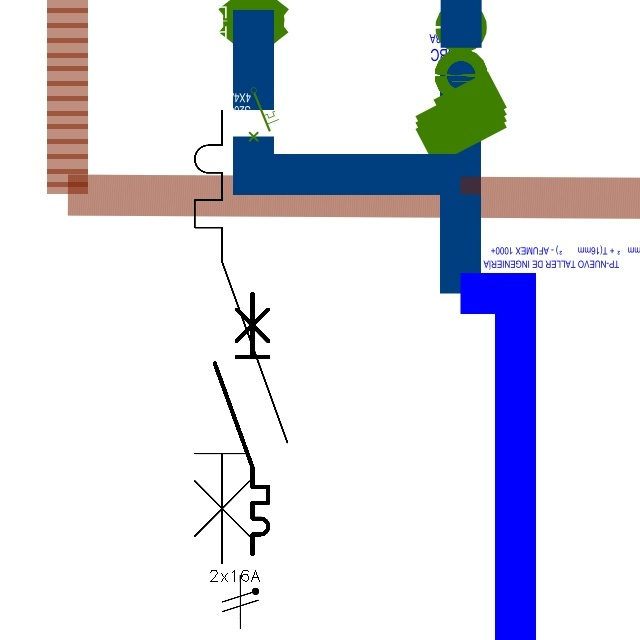interruptor_termomagnetico: (183, 99, 299, 575), (208, 287, 275, 561)
